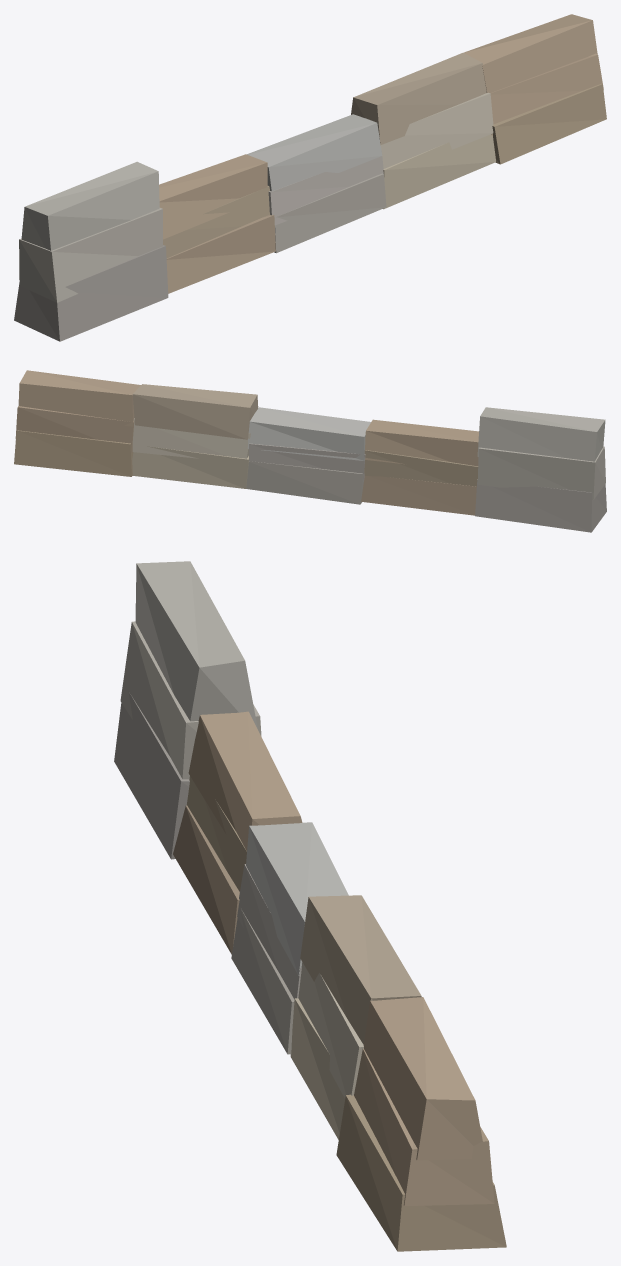
File: farm_-3_14_mid.glb
3 renders of one model, top to bottom at view 1: azimuth 30°, elevation 25°; view 2: azimuth 150°, elevation 25°; view 3: azimuth 270°, elevation 25°, orthographic. The views are drawn at different scales.
Parts seen in each view (by area): view 1: geometry_0; view 2: geometry_0; view 3: geometry_0.
Boxes of the visible parts, box(x1,y1,x2,y2) form: geometry_0: box(14, 14, 606, 341); geometry_0: box(14, 370, 606, 532); geometry_0: box(114, 561, 506, 1251).
Bounding box in the file's own units: 7.76 × 1.42 × 2.56.
